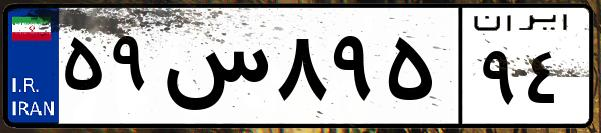4: (525, 38, 570, 115)
5: (385, 28, 445, 110), (57, 26, 110, 100)
8: (270, 28, 330, 110)
9: (330, 28, 385, 110), (475, 38, 525, 113), (110, 28, 158, 98)
س: (158, 20, 270, 120)
